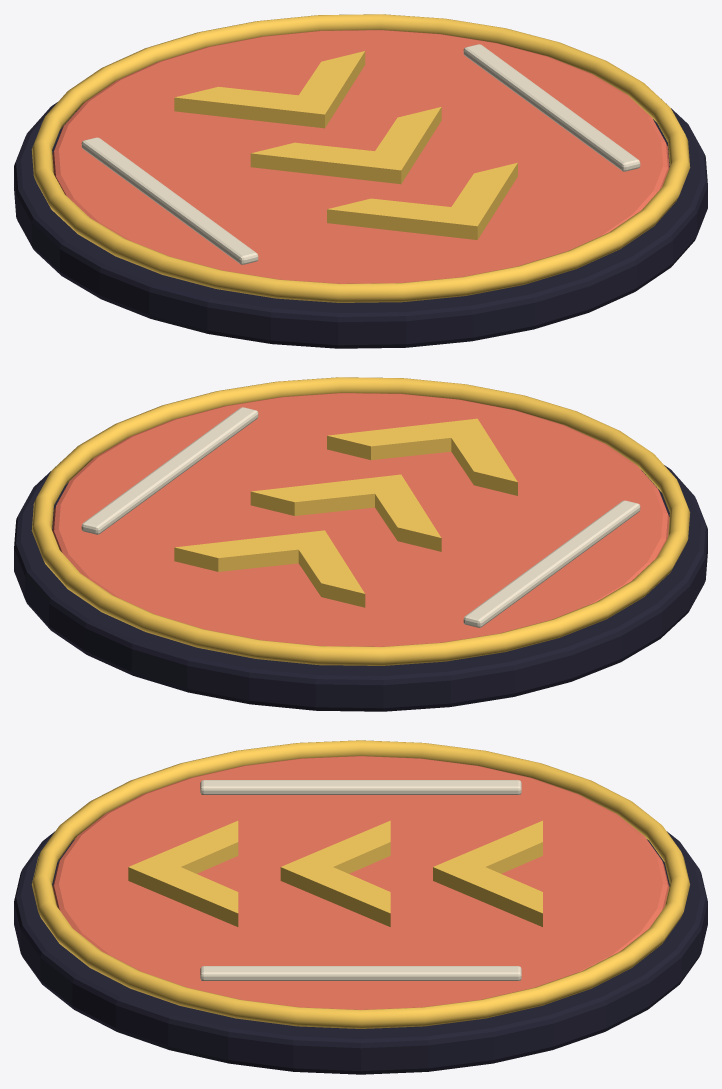
The model's file is pad-boost-far.glb.
3 views of the same model, one above another, from view 1: azimuth 30°, elevation 25°; view 2: azimuth 150°, elevation 25°; view 3: azimuth 270°, elevation 25° (orthographic).
Visible parts, largest first — view 1: pad-enamel, pad-base, charge-ring, chevron-1, chevron-2, chevron-0, speed-rail.001, speed-rail; view 2: pad-enamel, pad-base, charge-ring, chevron-2, chevron-1, chevron-0, speed-rail.001, speed-rail; view 3: pad-enamel, pad-base, charge-ring, chevron-0, chevron-1, chevron-2, speed-rail, speed-rail.001.
Part boxes in pixels (x1,y1,x2,y2): pad-enamel: (52, 30, 669, 283); pad-base: (14, 99, 707, 348); charge-ring: (31, 14, 690, 302); chevron-1: (250, 107, 441, 184); chevron-2: (174, 51, 365, 128); chevron-0: (327, 162, 517, 239); speed-rail.001: (463, 44, 640, 171); speed-rail: (81, 137, 258, 264); pad-enamel: (52, 393, 669, 646); pad-base: (14, 462, 707, 711); charge-ring: (31, 377, 690, 665); chevron-2: (174, 530, 365, 607); chevron-1: (250, 474, 441, 551); chevron-0: (327, 418, 517, 495); speed-rail.001: (81, 407, 258, 534); speed-rail: (463, 500, 640, 627); pad-enamel: (52, 756, 669, 1009); pad-base: (14, 831, 707, 1074); charge-ring: (31, 740, 690, 1028); chevron-0: (128, 821, 238, 926); chevron-1: (280, 820, 390, 926); chevron-2: (433, 820, 542, 926); speed-rail: (200, 780, 521, 794); speed-rail.001: (200, 966, 521, 980).
Bounding box in the file's own units: 0.82 × 0.083 × 0.82.
